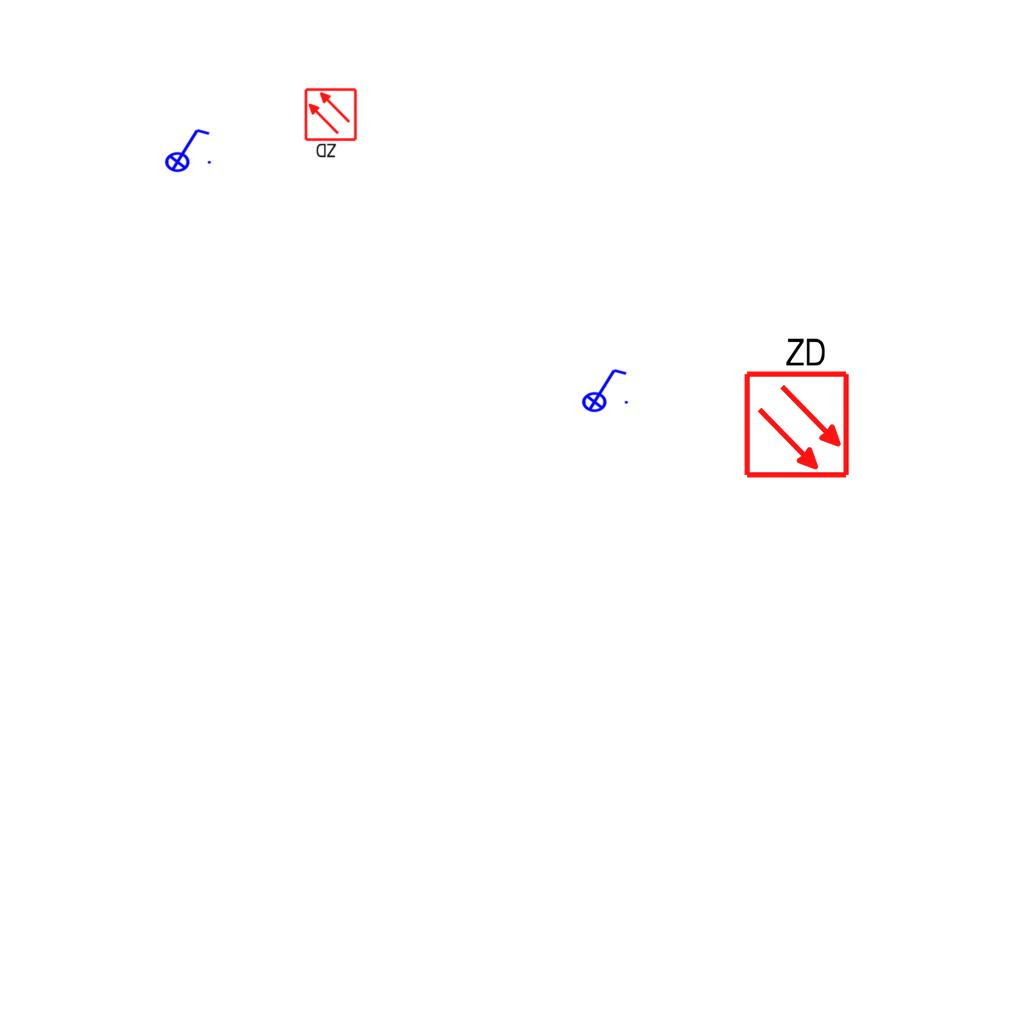Ausschalter_beleuchtet: (158, 125, 214, 173), (575, 365, 631, 413)
ZD_Melder_in_Zwischendecke_mit_Revisionsoeffnung_mind_40_x_40_cm: (738, 331, 852, 480), (303, 87, 360, 161)
